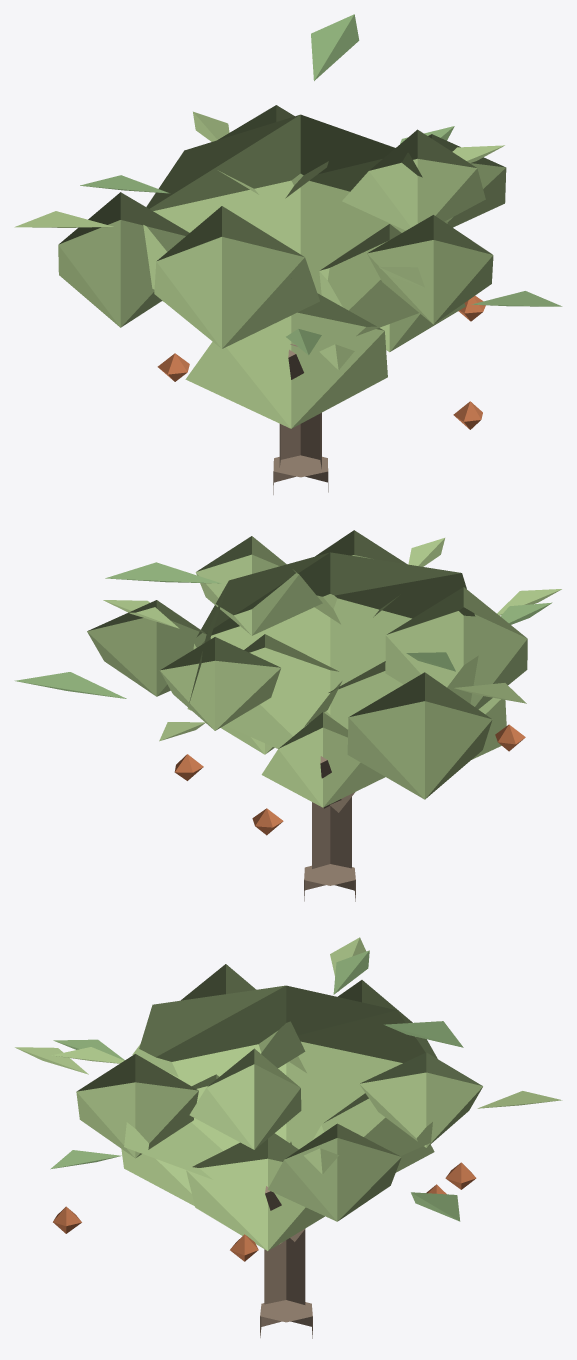
The model's file is shu.ganju@fruiting__bloom.glb.
3 views of the same model, one above another, from view 1: azimuth 30°, elevation 25°; view 2: azimuth 150°, elevation 25°; view 3: azimuth 270°, elevation 25° (orthographic). The views are drawn at different scales.
Visible parts, largest first — view 1: shu.ganju@fruiting__bloom; view 2: shu.ganju@fruiting__bloom; view 3: shu.ganju@fruiting__bloom.
Part boxes in pixels (x1,y1,x2,y2): shu.ganju@fruiting__bloom: (14,14,562,494); shu.ganju@fruiting__bloom: (14,530,561,901); shu.ganju@fruiting__bloom: (15,937,562,1338).
Size of the model in its own units: 7.1 by 5.12 by 7.18.
